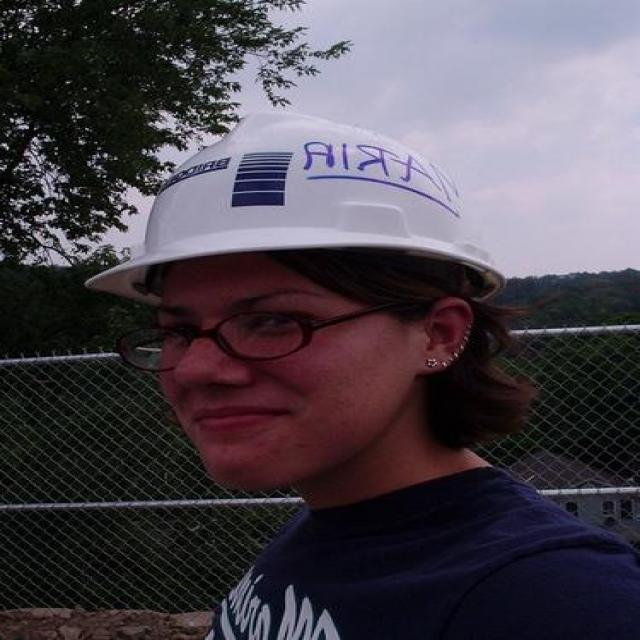Safety-Helmet: (78, 113, 531, 307)
